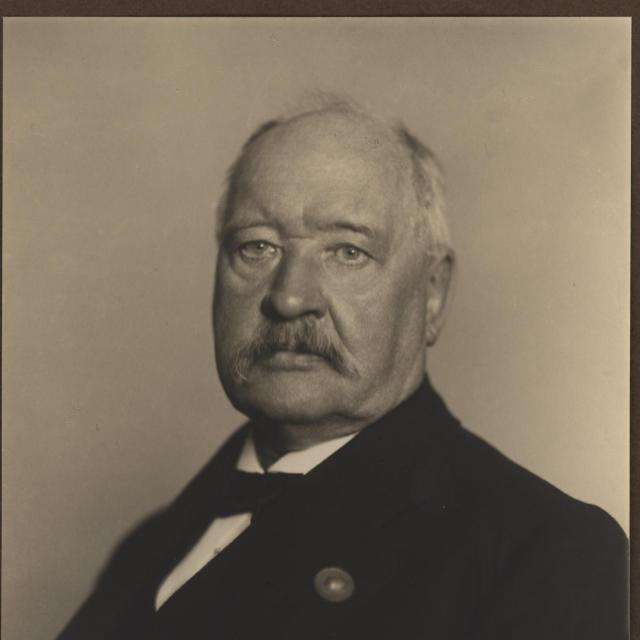no-glass: (224, 235, 378, 269)
